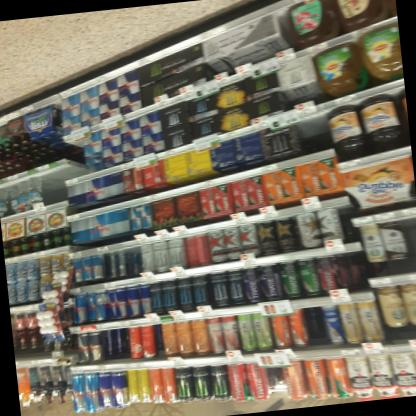empty_space: (291, 105, 332, 154), (40, 160, 70, 206)
